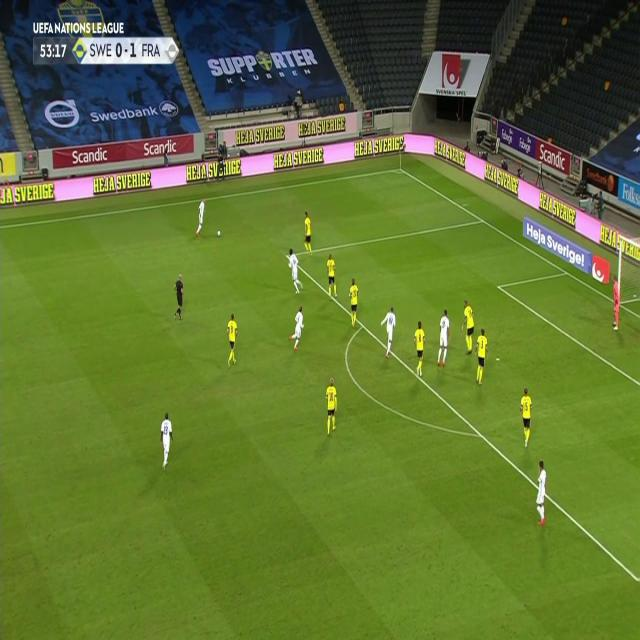ball: (216, 228, 222, 238)
player: (532, 458, 550, 526), (435, 306, 452, 369), (518, 385, 534, 448), (323, 375, 339, 437), (158, 409, 174, 471), (380, 304, 398, 359), (284, 246, 304, 294), (460, 298, 476, 356), (474, 326, 489, 385), (412, 319, 427, 378), (224, 311, 240, 366), (288, 305, 306, 350), (346, 276, 361, 328), (610, 273, 622, 331), (325, 250, 339, 298), (172, 272, 185, 321), (301, 209, 314, 255), (195, 197, 207, 236)
